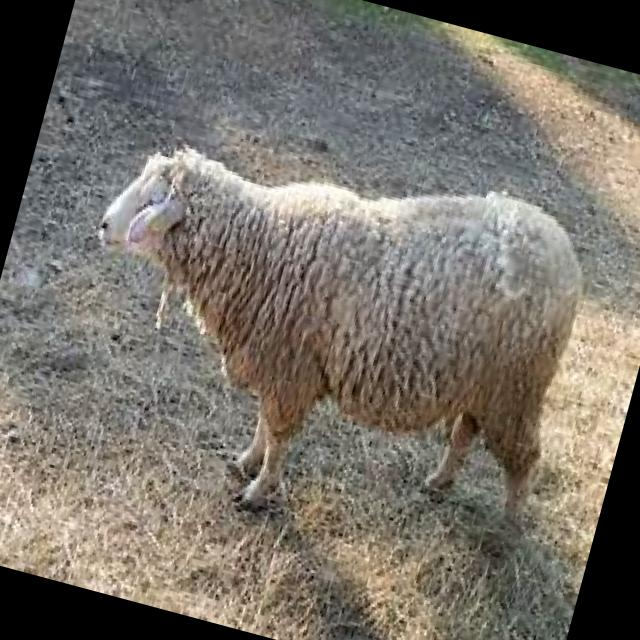animal: (40, 99, 603, 578)
